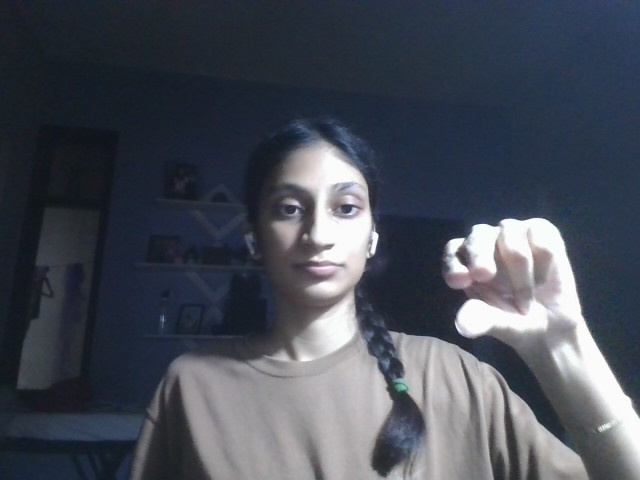no: (444, 216, 589, 356)
